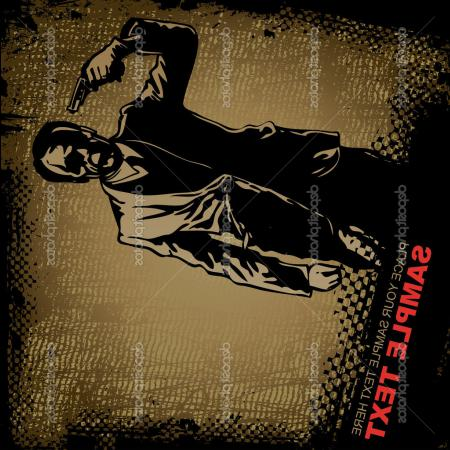Pistol: (63, 39, 127, 115)
